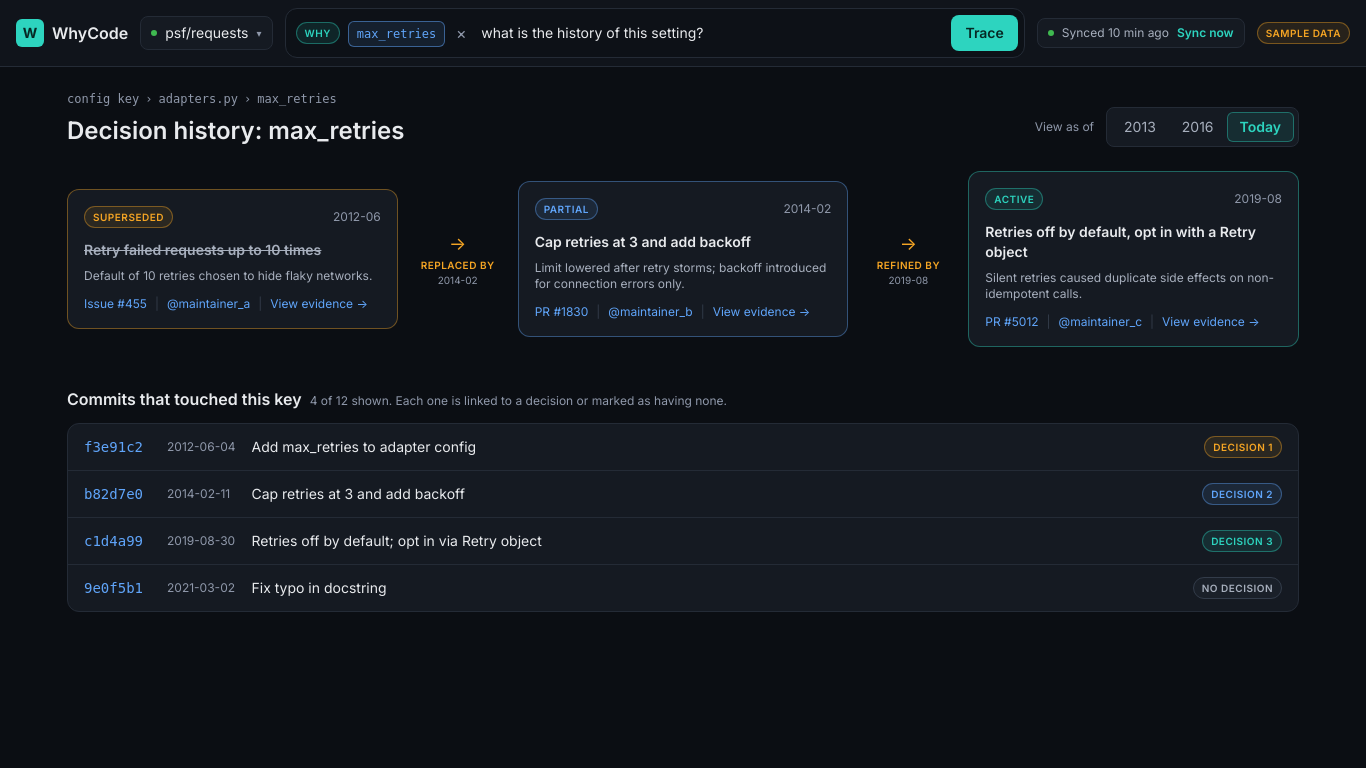
Test: Decision lineage › travels back in time with "View as of"
The width and height of the screenshot is (1366, 768).
Expected: the heading "Decision history: max_retries" is shown, x1=67 y1=115 x2=404 y2=147
Click the radio button labelled "2016". click: [1198, 127]
box: x1=1169 y1=112 x2=1227 y2=142
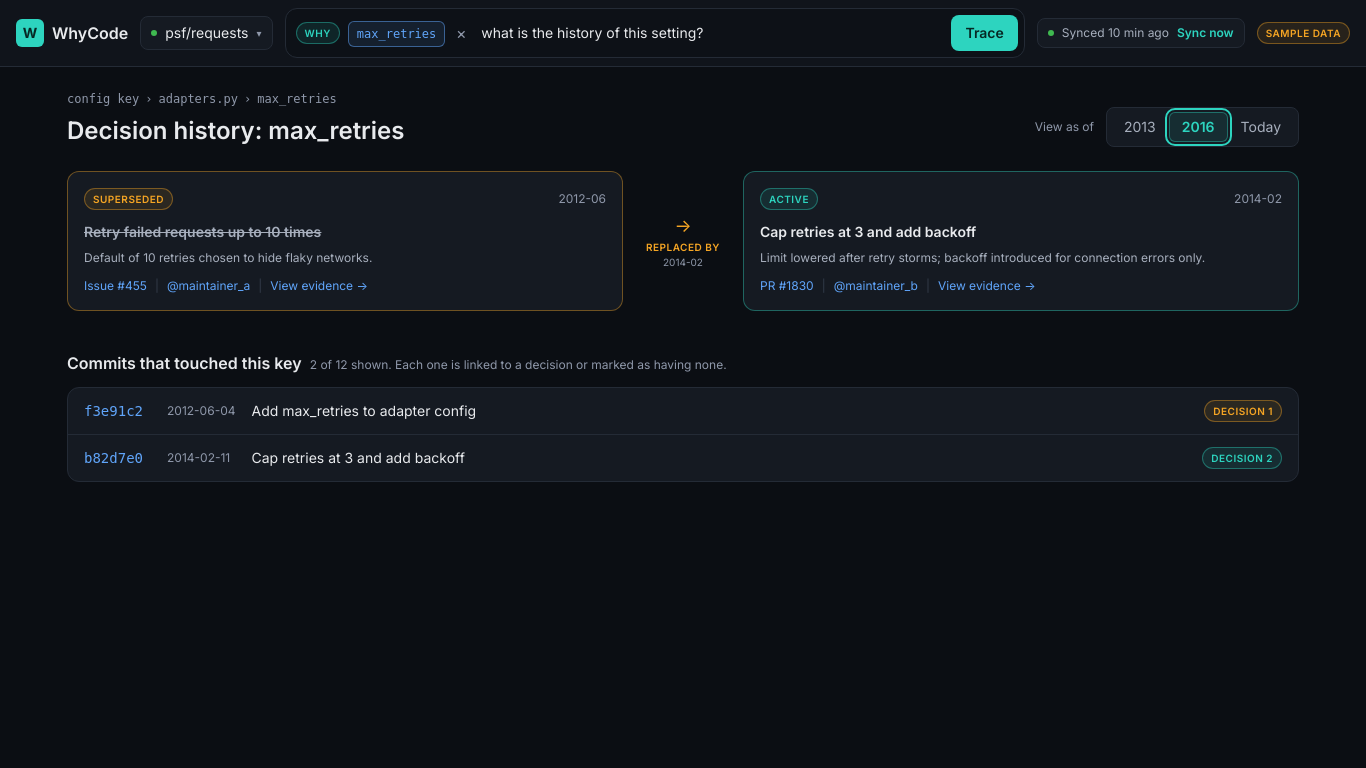
Expected: the text "2 of 12 shown" is shown, x1=310 y1=357 x2=727 y2=373
Click the radio button labelled "2013". click: [1140, 127]
box: x1=1111 y1=112 x2=1169 y2=142
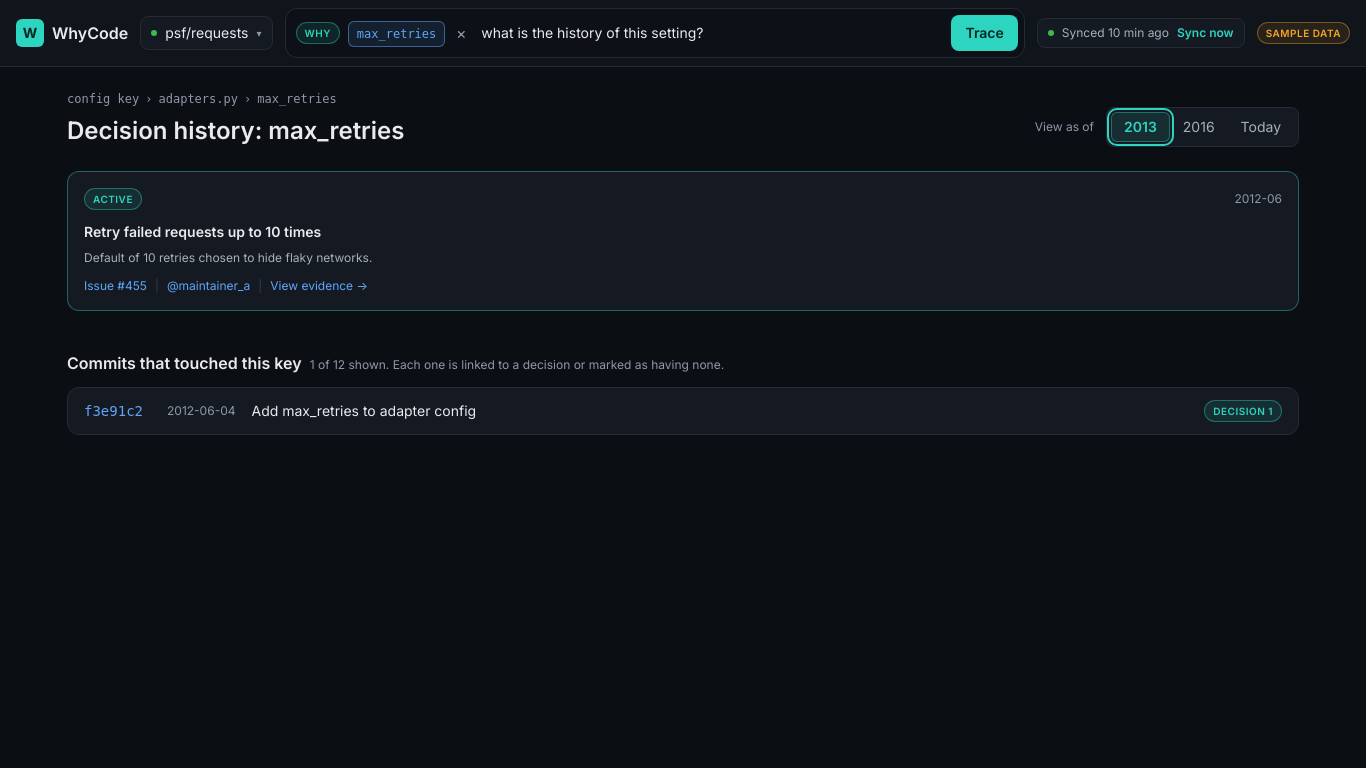
Expected: the text "1 of 12 shown" is shown, x1=310 y1=357 x2=724 y2=373
Click the radio button labelled "Today". click: [1261, 127]
box: x1=1228 y1=112 x2=1294 y2=142
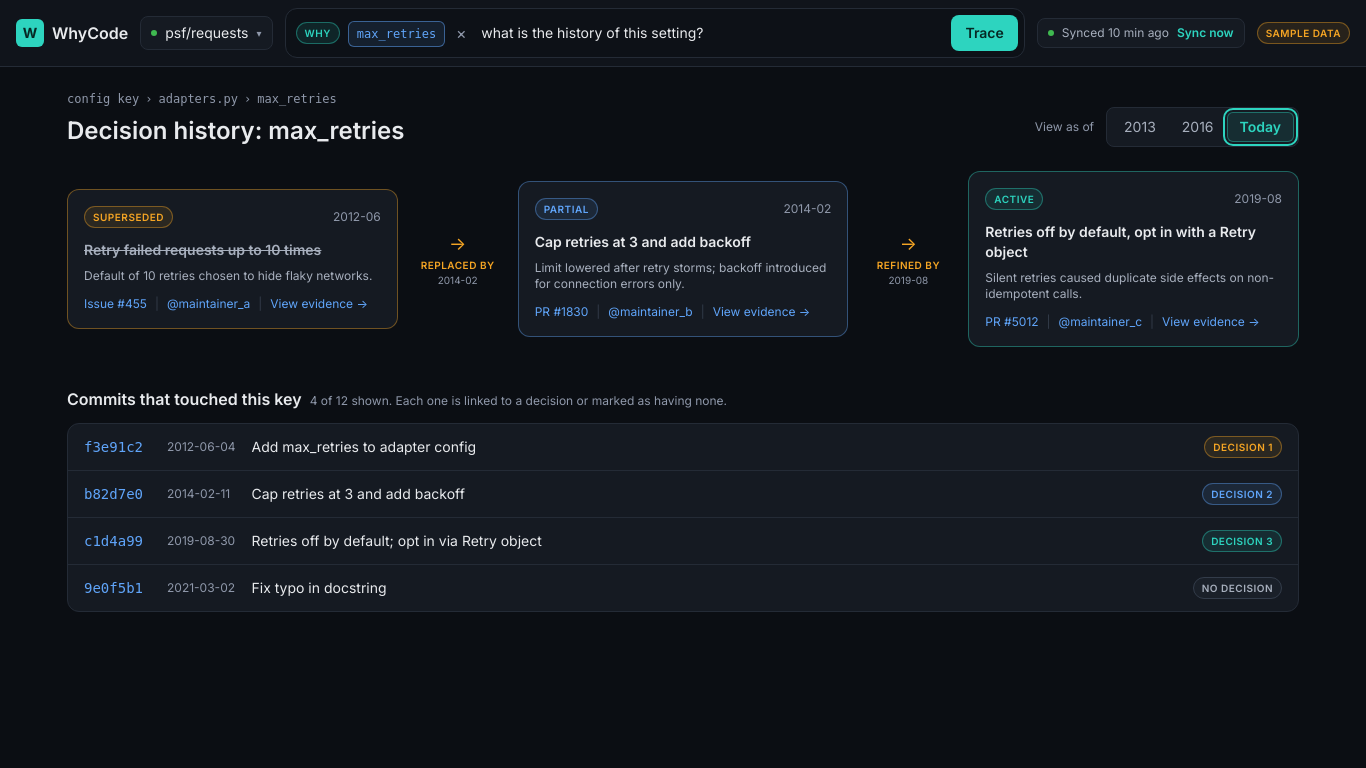
Expected: the text "4 of 12 shown" is shown, x1=310 y1=393 x2=727 y2=409
